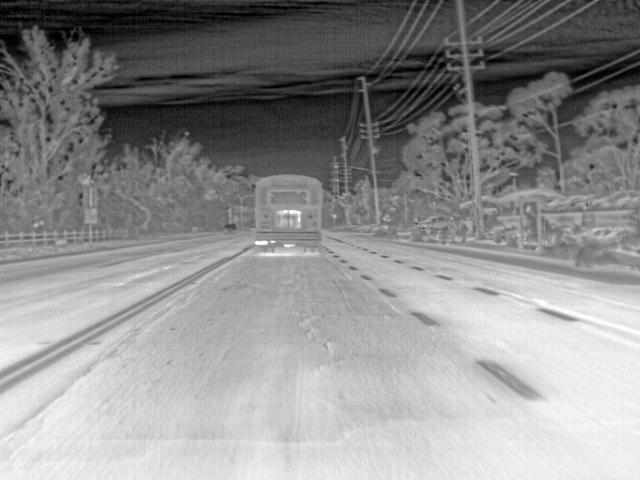car: (222, 222, 237, 234)
person: (458, 219, 471, 241), (449, 214, 458, 240)
